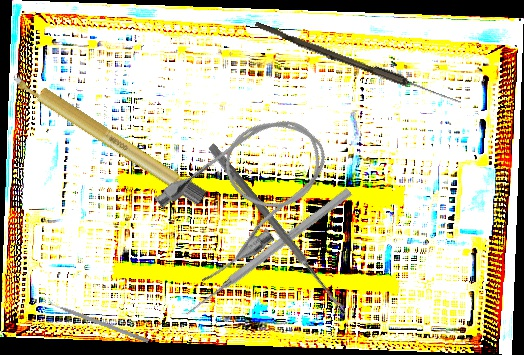Cannula: (143, 95, 351, 291)
Chopper: (45, 294, 152, 344)
Pusher: (182, 185, 354, 320)
Scalpel Handle: (8, 67, 209, 207)
Surgical Spoon: (206, 142, 350, 318), (252, 21, 464, 107)
